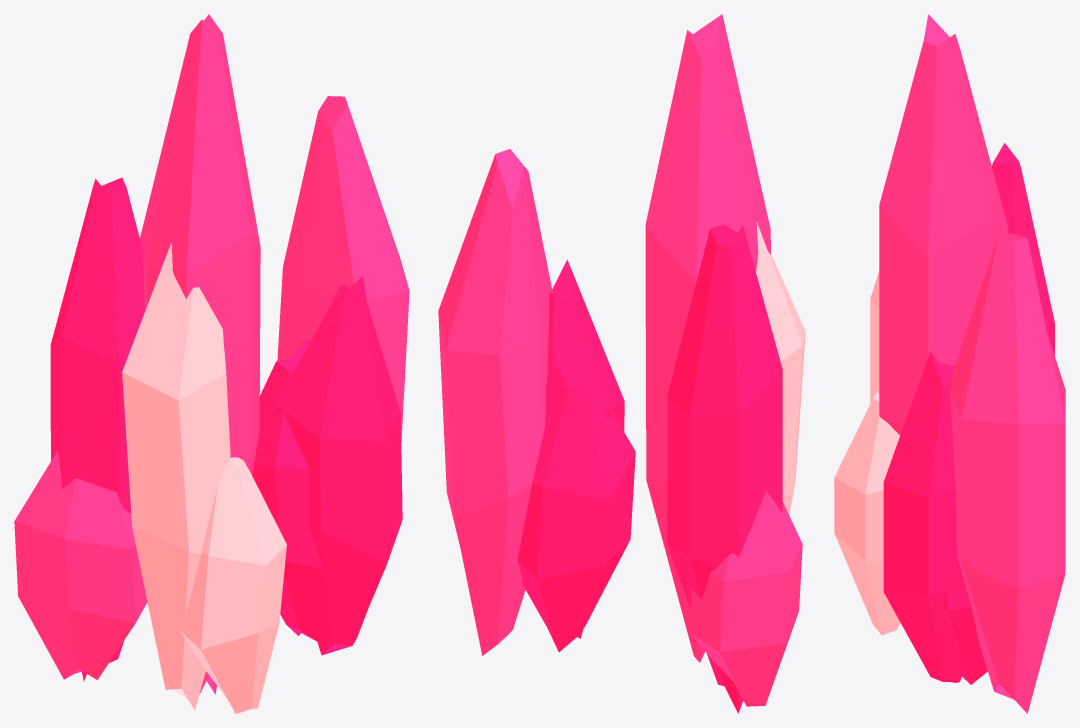
File: gunners-ruby.glb
3 renders of one model, left to right at view 1: azimuth 30°, elevation 25°; view 2: azimuth 150°, elevation 25°; view 3: azimuth 270°, elevation 25°, orthographic. The views are drawn at different scales.
Visible parts, largest first — view 1: gunners-ruby · Ruby 0, gunners-ruby · Ruby 1, gunners-ruby · Ruby 2; view 2: gunners-ruby · Ruby 0, gunners-ruby · Ruby 1, gunners-ruby · Ruby 2; view 3: gunners-ruby · Ruby 0, gunners-ruby · Ruby 1, gunners-ruby · Ruby 2.
Part boxes in pixels (x1,y1,x2,y2): gunners-ruby · Ruby 0: (14,14,409,694); gunners-ruby · Ruby 1: (50,177,402,681); gunners-ruby · Ruby 2: (122,242,286,713); gunners-ruby · Ruby 0: (438,14,802,706); gunners-ruby · Ruby 1: (517,224,782,713); gunners-ruby · Ruby 2: (756,222,805,516); gunners-ruby · Ruby 0: (879,14,1065,713); gunners-ruby · Ruby 1: (883,143,1054,684); gunners-ruby · Ruby 2: (834,271,900,635).
Bounding box in the file's own units: 1.48 × 2.56 × 0.8735.
